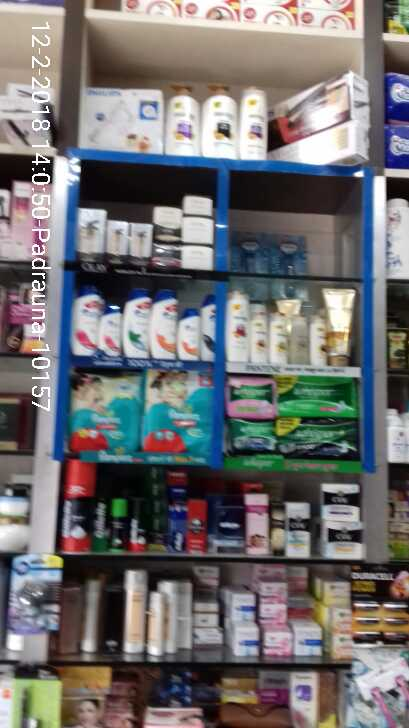gillete: (65, 458, 93, 551), (210, 506, 245, 550), (169, 487, 188, 551), (129, 498, 149, 553), (110, 499, 129, 553), (190, 502, 210, 550), (93, 499, 110, 551)
venus: (270, 232, 309, 271), (236, 227, 270, 271)
